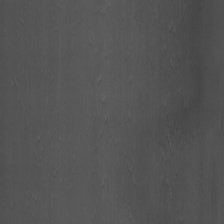silk_spot: (91, 61, 118, 159)
